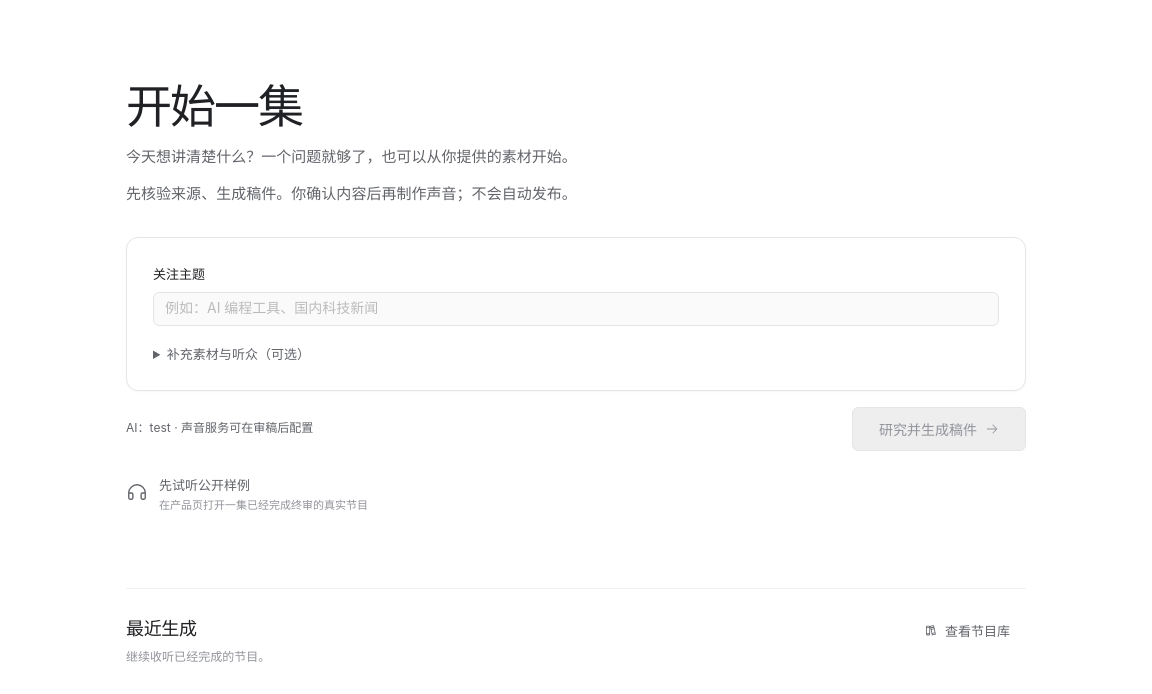
App quick briefing orchestration › stops at a saved draft without voice configuration or automatic production
Step 1. Type "AI 编程" into the field labelled "关注主题" → (576, 309), box [153, 292, 999, 326]
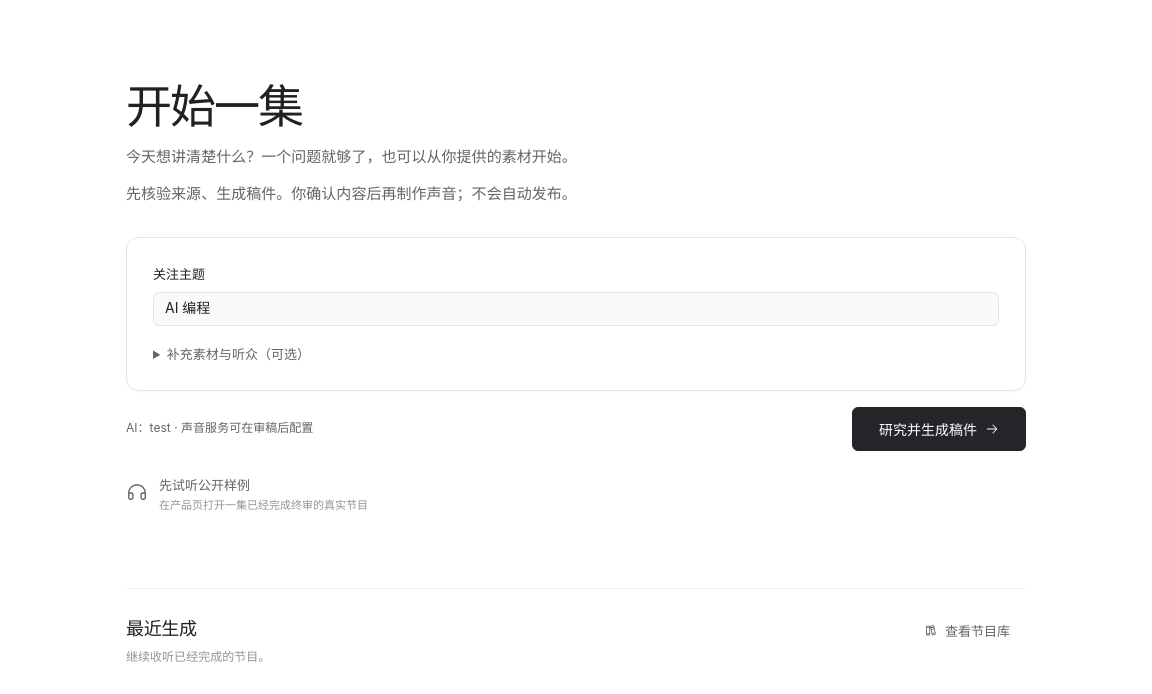
Check: the button "研究并生成稿件" is enabled
Step 2. Click the button "研究并生成稿件" → (939, 429), box [852, 407, 1026, 451]
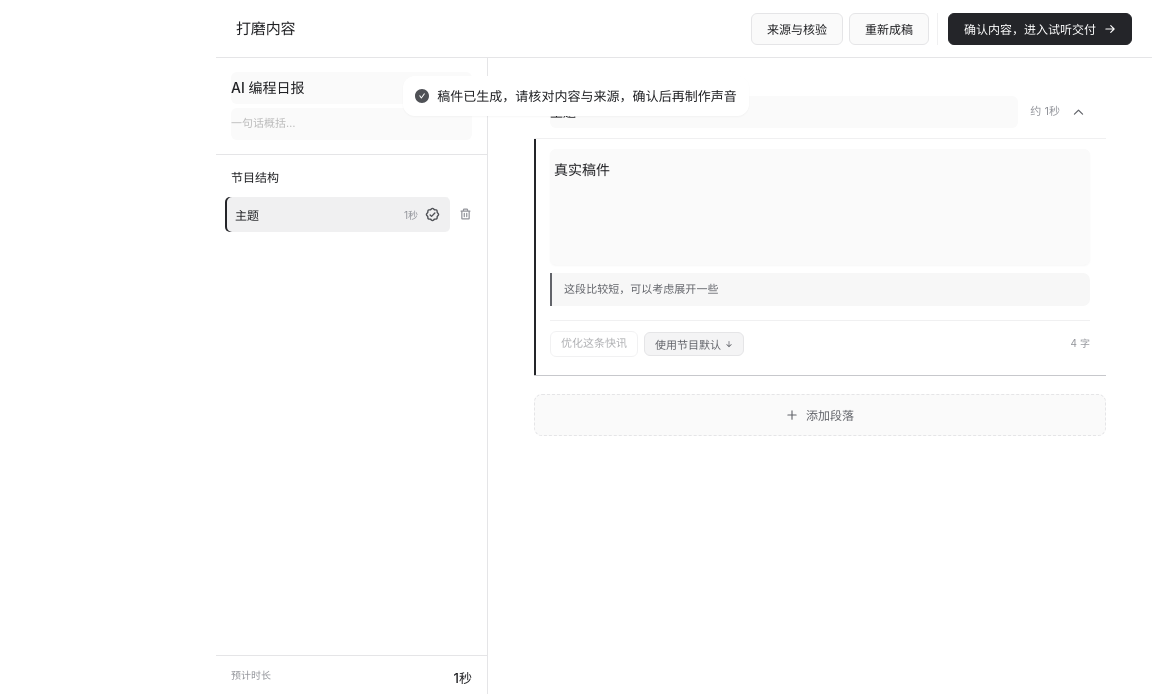
Check: the heading "打磨内容" is shown, box [236, 19, 295, 38]
